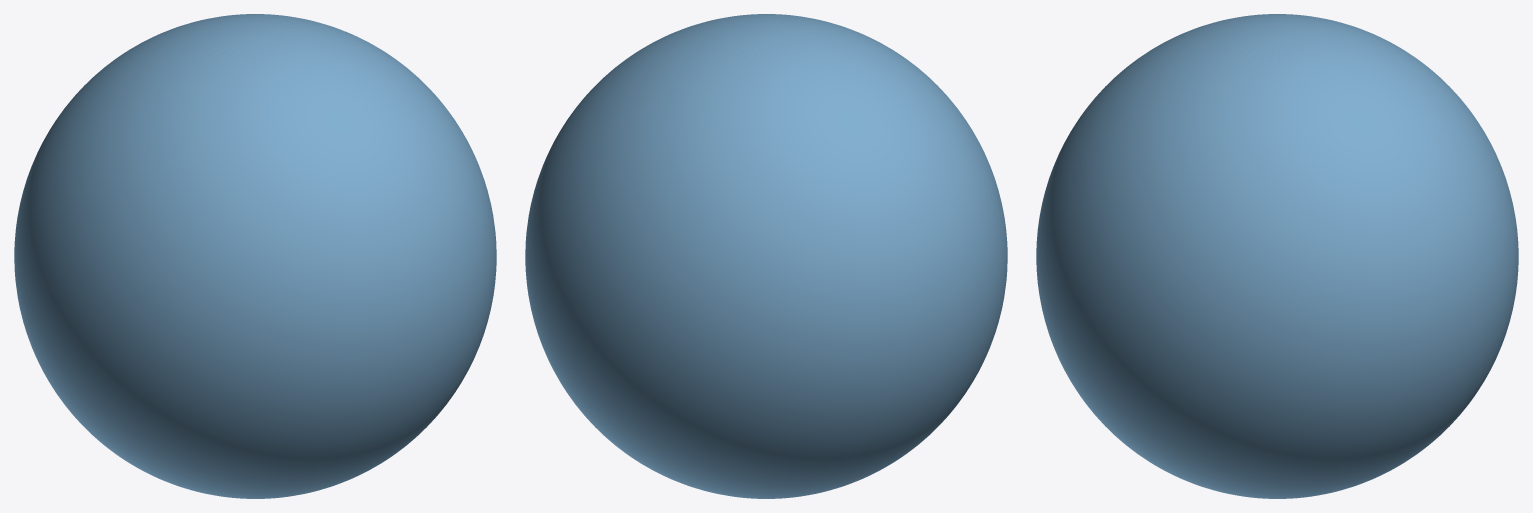
The model's file is celula_metafase.glb.
3 renders of one model, left to right at view 1: azimuth 30°, elevation 25°; view 2: azimuth 150°, elevation 25°; view 3: azimuth 270°, elevation 25°, orthographic.
Visible parts, largest first — view 1: MembranaCelular; view 2: MembranaCelular; view 3: MembranaCelular.
Part boxes in pixels (left/top/right/bottom): MembranaCelular: left=14, top=14, right=496, bottom=498; MembranaCelular: left=525, top=14, right=1007, bottom=498; MembranaCelular: left=1036, top=14, right=1518, bottom=498.
Bounding box in the file's own units: 15.8 × 15.96 × 15.8.
